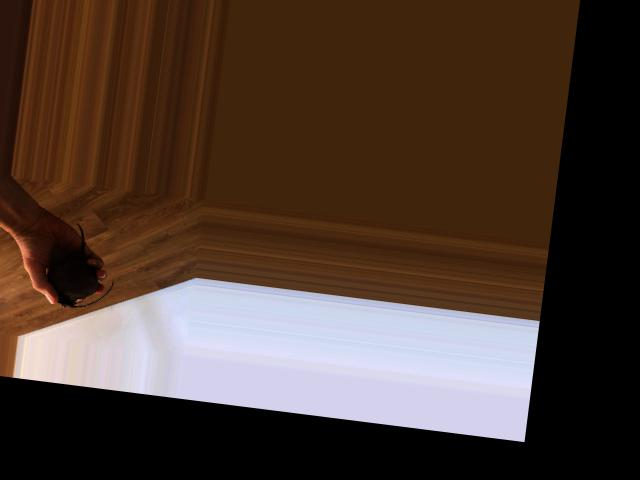beet: (44, 220, 121, 313)
